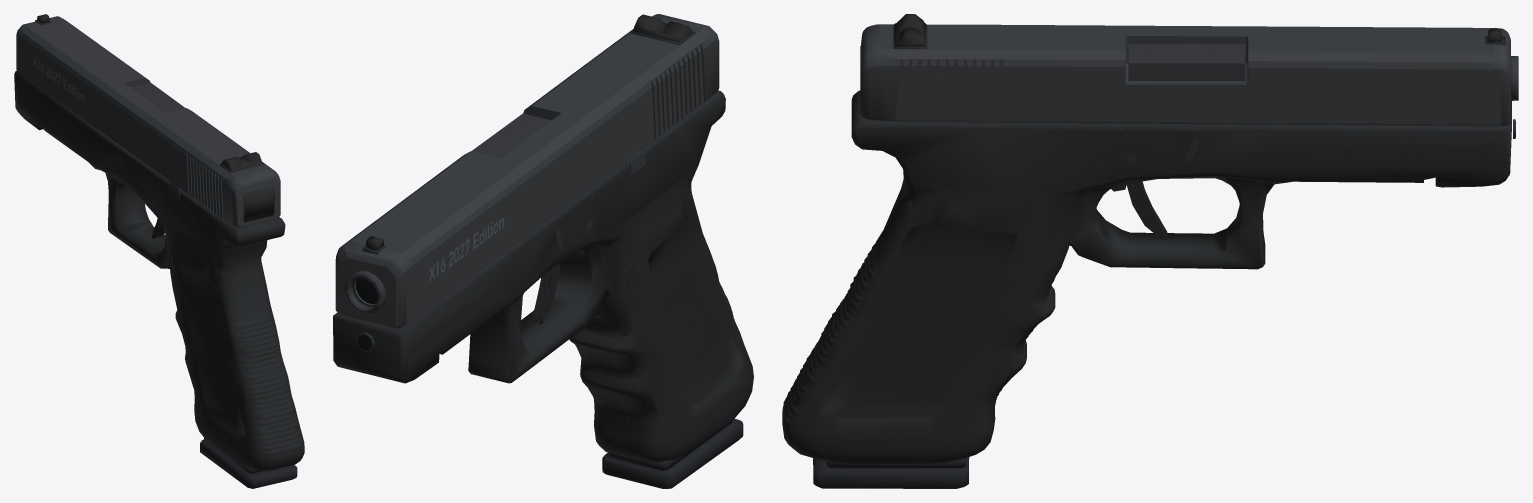
The model's file is X16-2027-Edition_TP.fbx.
3 renders of one model, left to right at view 1: azimuth 30°, elevation 25°; view 2: azimuth 150°, elevation 25°; view 3: azimuth 270°, elevation 25°, orthographic. The views are drawn at different scales.
Visible parts, largest first — view 1: TP_Frame_Mesh, TP_Slide_Mesh, TP_Magazine_Mesh, TP_Barrel_Mesh; view 2: TP_Frame_Mesh, TP_Slide_Mesh, TP_Magazine_Mesh, TP_Barrel_Mesh, TP_Trigger_Mesh; view 3: TP_Frame_Mesh, TP_Slide_Mesh, TP_Barrel_Mesh, TP_Magazine_Mesh, TP_Trigger_Mesh.
Boxes of the visible parts, box(x1,y1,x2,y2) form: TP_Frame_Mesh: box(14, 71, 304, 471); TP_Slide_Mesh: box(16, 14, 280, 227); TP_Magazine_Mesh: box(200, 438, 297, 488); TP_Barrel_Mesh: box(131, 82, 185, 112); TP_Frame_Mesh: box(333, 90, 753, 461); TP_Slide_Mesh: box(335, 14, 719, 328); TP_Magazine_Mesh: box(602, 418, 743, 488); TP_Barrel_Mesh: box(344, 113, 551, 314); TP_Trigger_Mesh: box(532, 263, 560, 324); TP_Frame_Mesh: box(782, 90, 1515, 464); TP_Slide_Mesh: box(860, 14, 1510, 125); TP_Barrel_Mesh: box(1128, 44, 1518, 100); TP_Magazine_Mesh: box(813, 457, 969, 488); TP_Trigger_Mesh: box(1111, 181, 1167, 239).
Size of the model in its own units: 15.69 by 80.42 by 120.
Materials: 5 (5 with a texture image).
